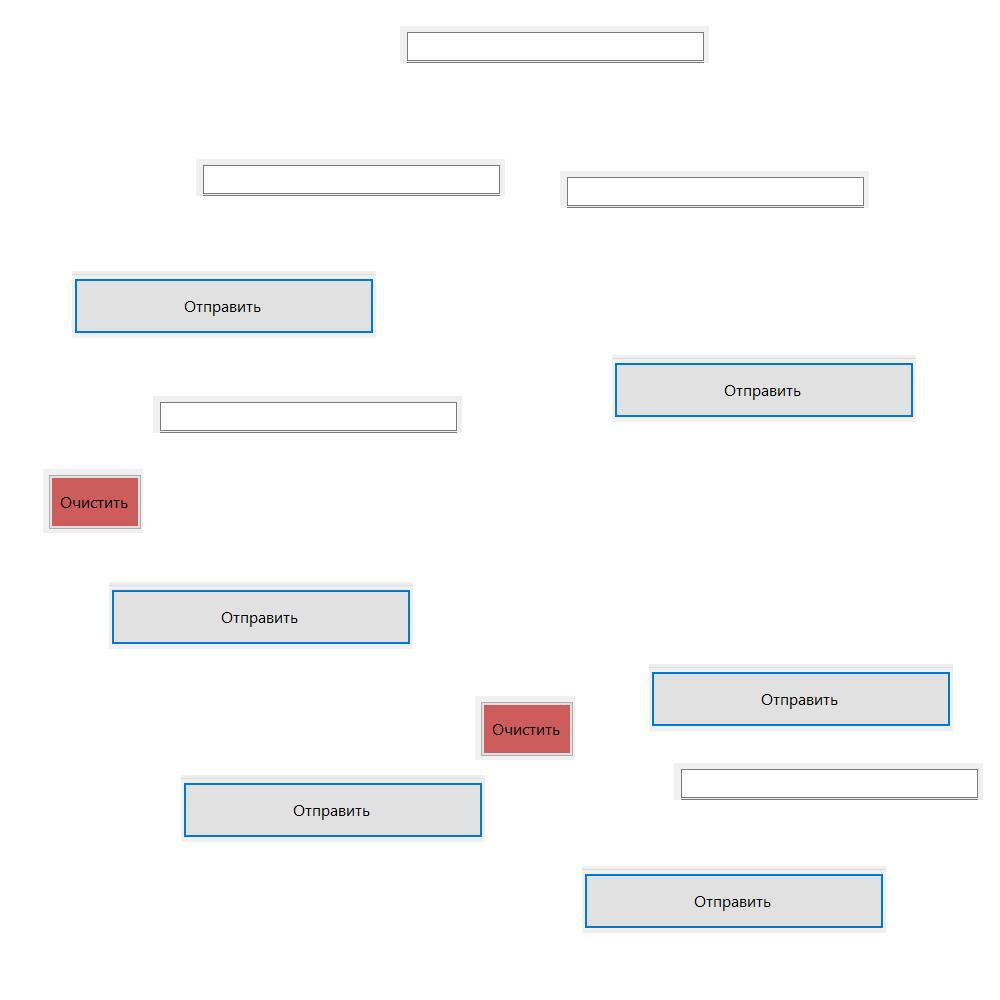Button: (582, 866, 886, 933), (181, 775, 485, 842), (612, 355, 916, 422), (72, 271, 376, 338), (649, 664, 953, 731), (109, 582, 413, 649), (475, 696, 575, 760), (43, 469, 143, 533)
EditText-: (196, 159, 505, 196), (560, 171, 869, 208), (674, 763, 983, 800), (400, 26, 709, 63), (153, 396, 462, 433)
